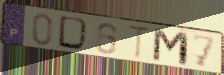0: (31, 13, 54, 47)
6: (94, 22, 118, 56)
7: (191, 33, 217, 70)
D: (57, 14, 93, 53)
M: (151, 27, 191, 69)
T: (126, 23, 152, 62)
